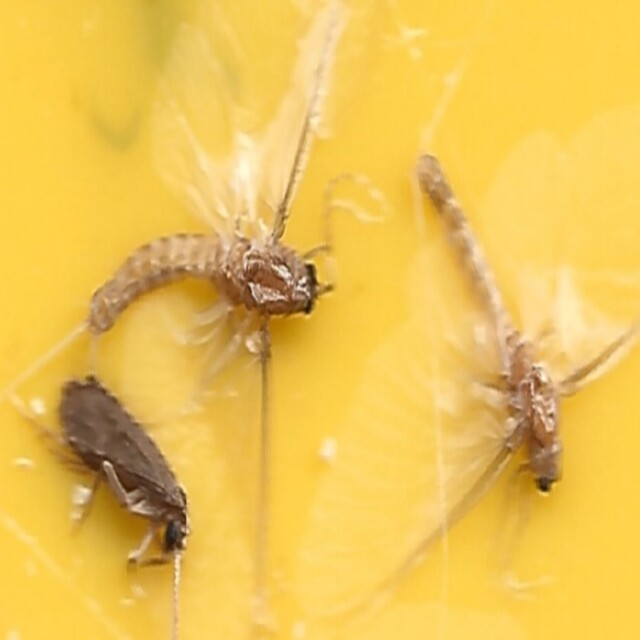Ephemeroptera: (419, 142, 562, 498), (78, 225, 324, 356)
